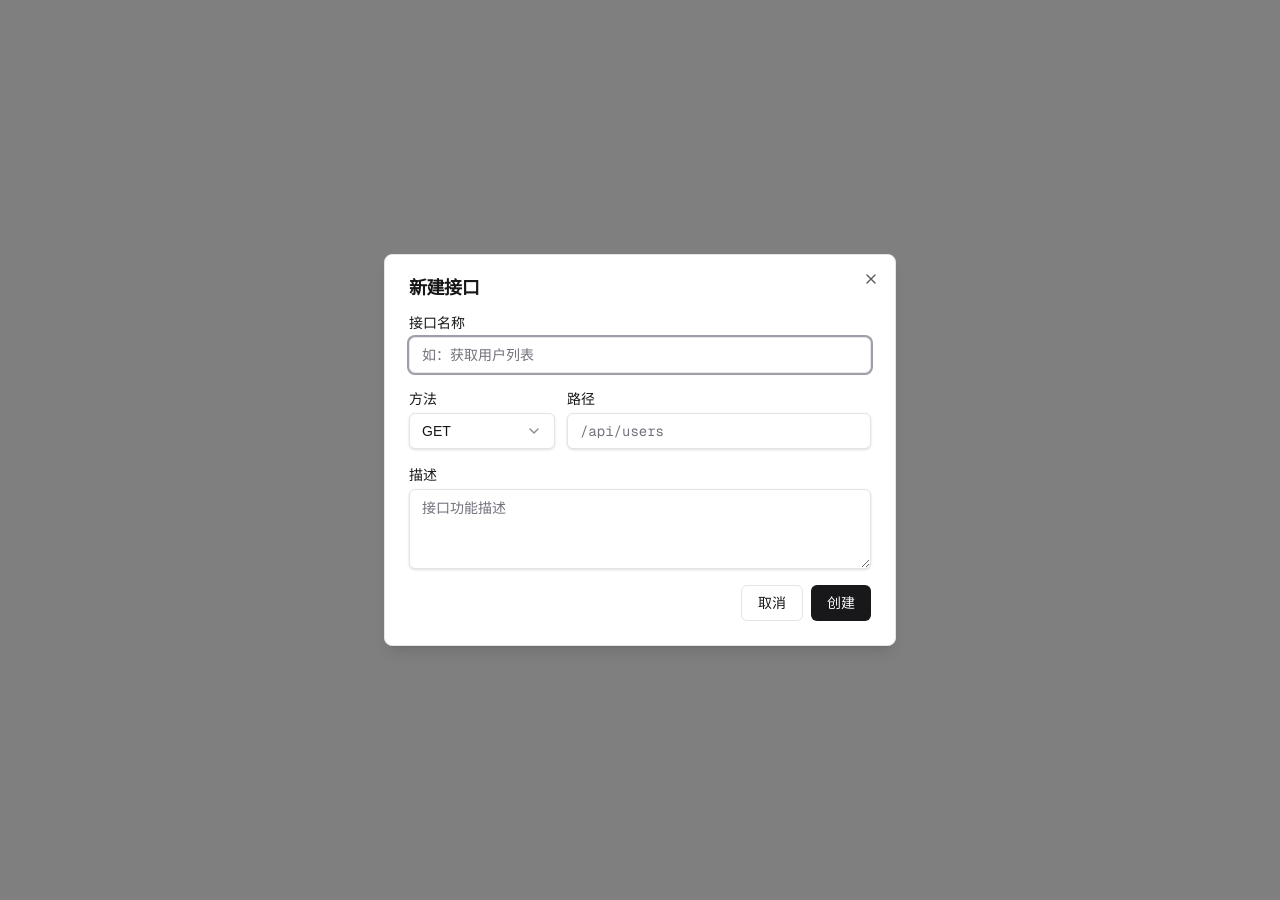
Test case: CreateEndpointDialog › changes HTTP method via select
The width and height of the screenshot is (1280, 900).
Click the dropdown: (482, 431) left=409, top=413, right=555, bottom=449
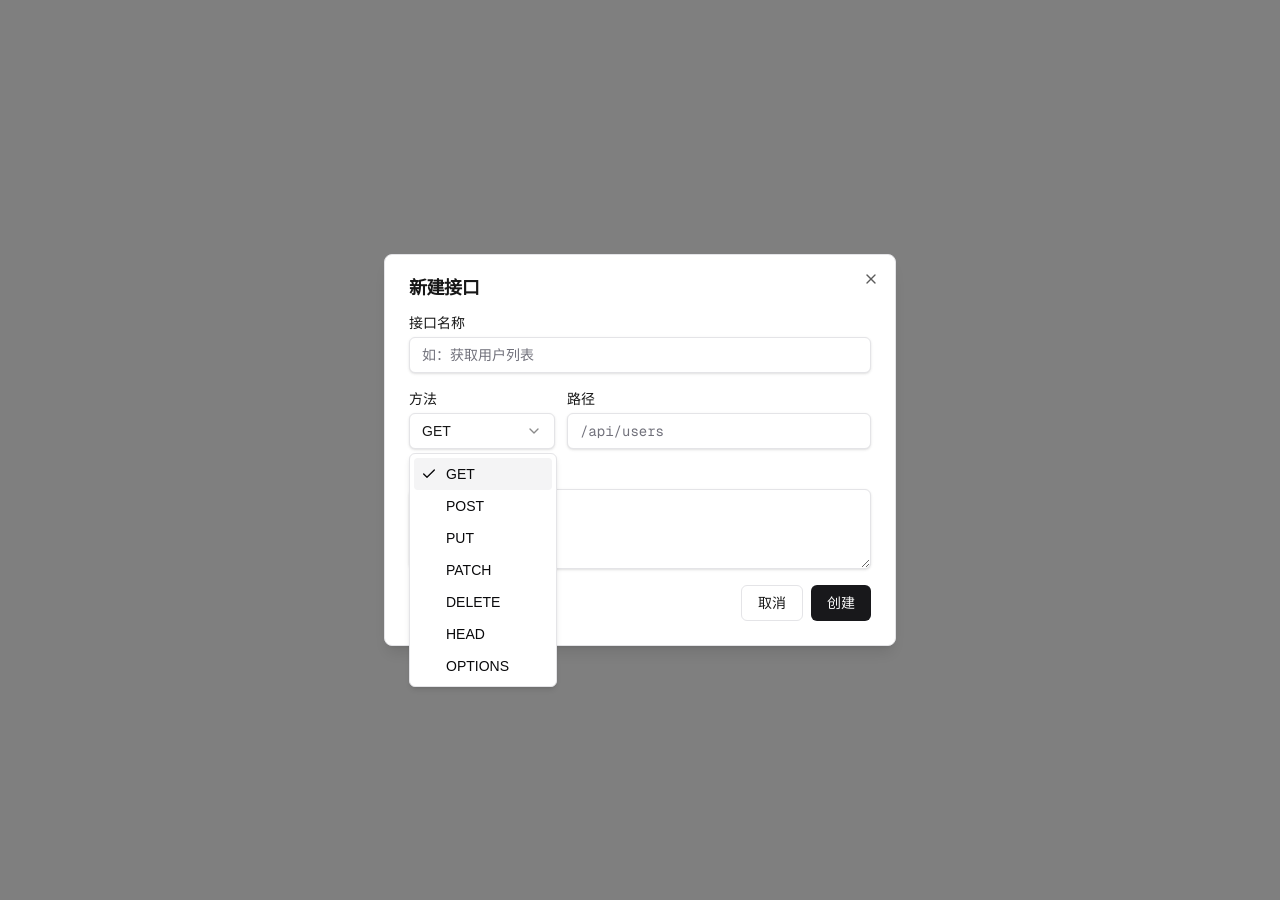
Expected: the text "POST" is shown, left=446, top=496, right=484, bottom=516
Expected: the text "DELETE" is shown, left=446, top=592, right=500, bottom=612
